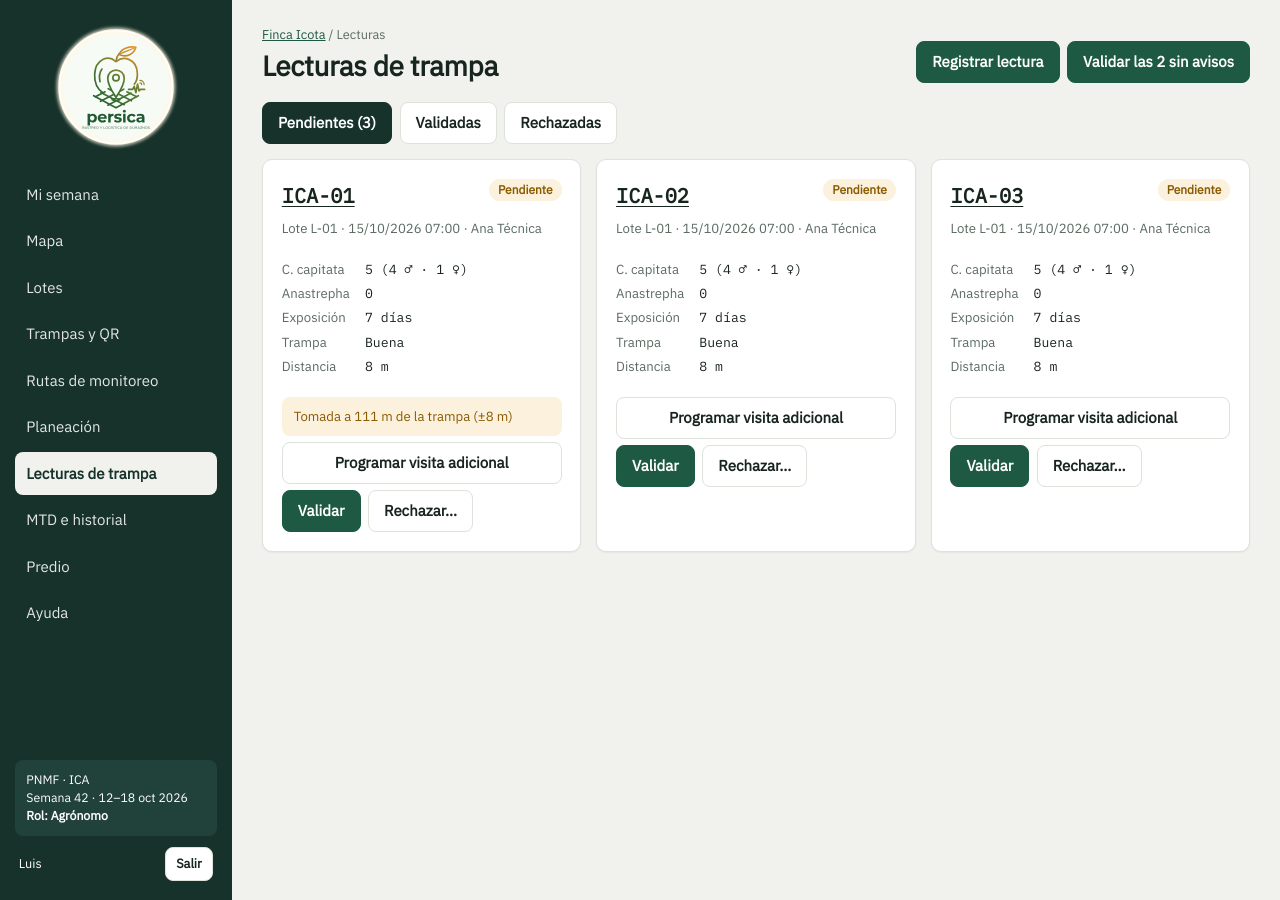
Scenario: VistaLecturas › valida de una vez las lecturas sin avisos
The image size is (1280, 900).
Click the button "Validar las 2 sin avisos". click: (1159, 62)
box: [1067,41,1250,83]
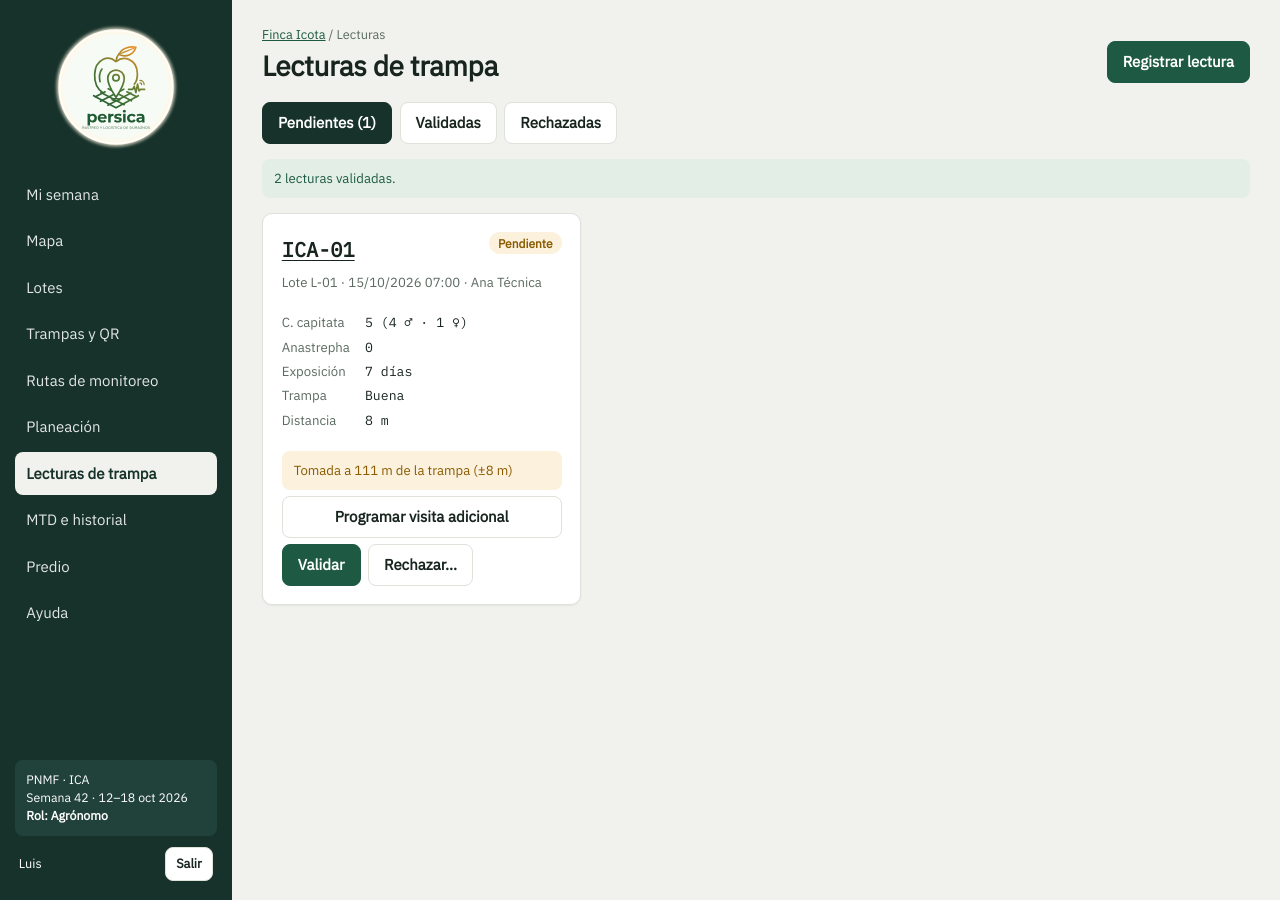
Now the text "2 lecturas validadas." is shown, box [262,159,1250,198]
